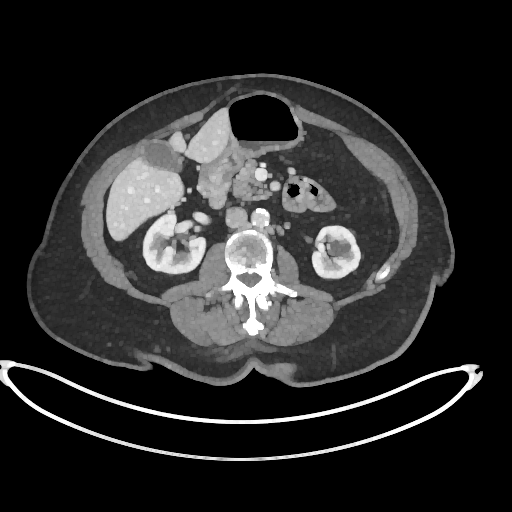Lesion: (324, 233, 356, 263)
